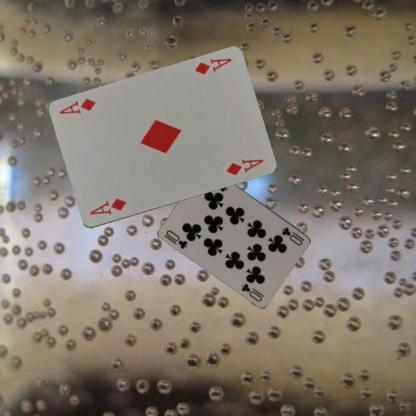10c: (279, 224, 306, 247), (162, 227, 189, 250)
Ad: (87, 196, 128, 217), (192, 56, 233, 76)
